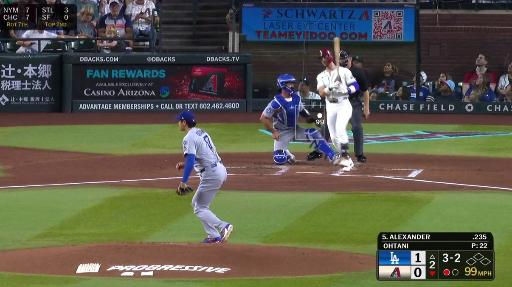pitcher: (175, 110, 234, 245)
